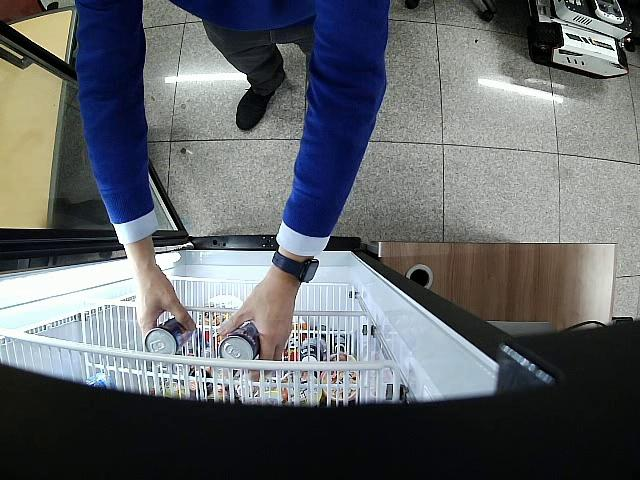00_hand: (216, 281, 299, 376), (124, 247, 194, 341)
16_hot6: (144, 318, 194, 354), (219, 322, 261, 360)
